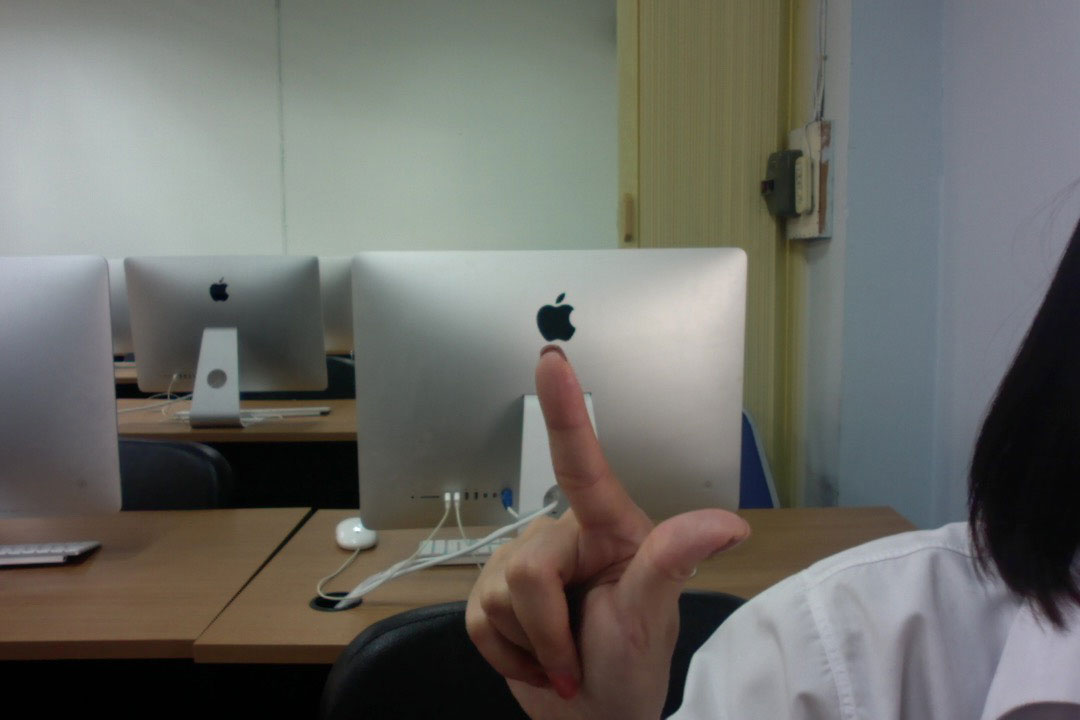lor: (461, 333, 756, 714)
